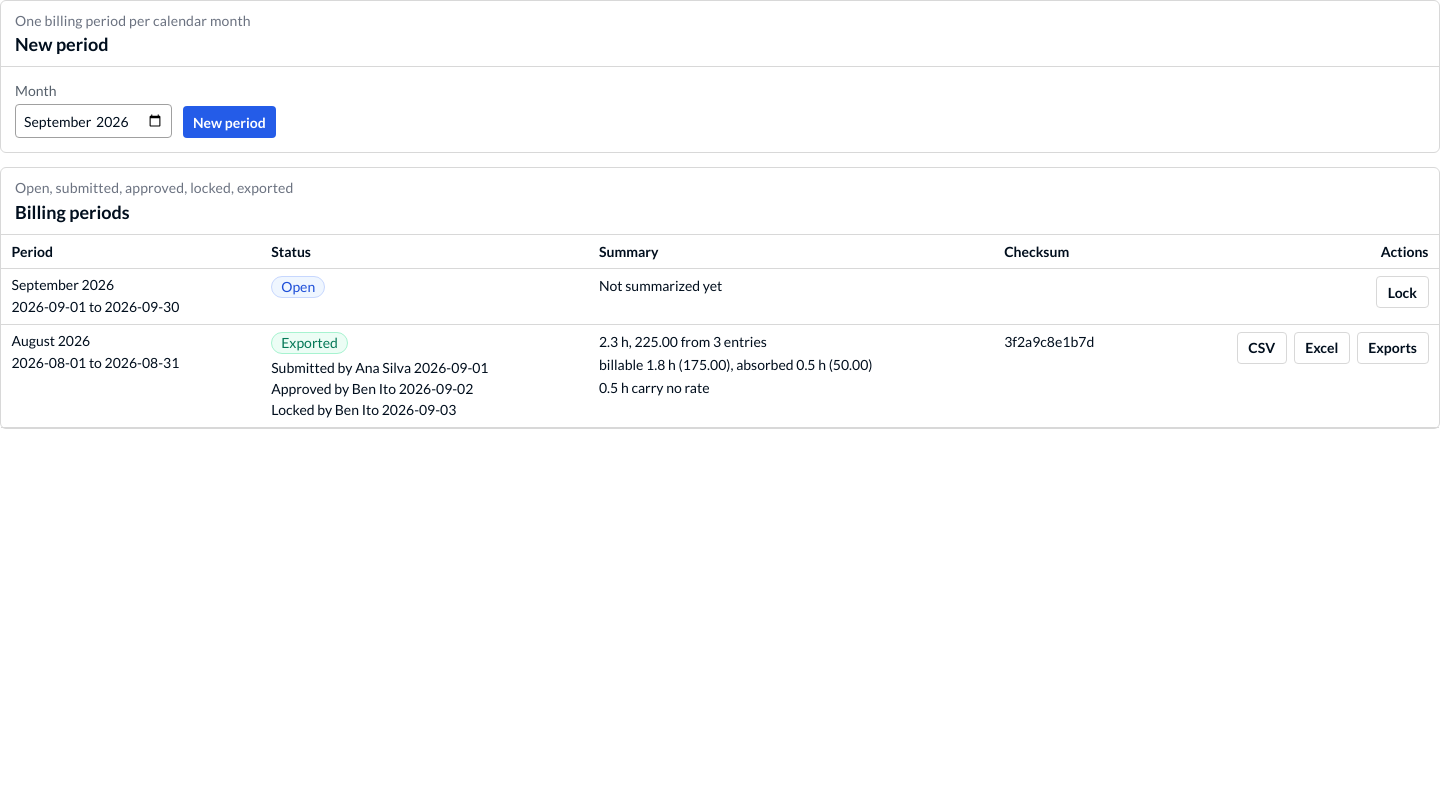
it: BillingPeriodsTab › words period_not_locked from the download and offers no export on an open period
What coordinates should you click on to do the following:
click the button "Excel"
I would click on:
 (1322, 348)
Its box is [1294,332,1350,364].
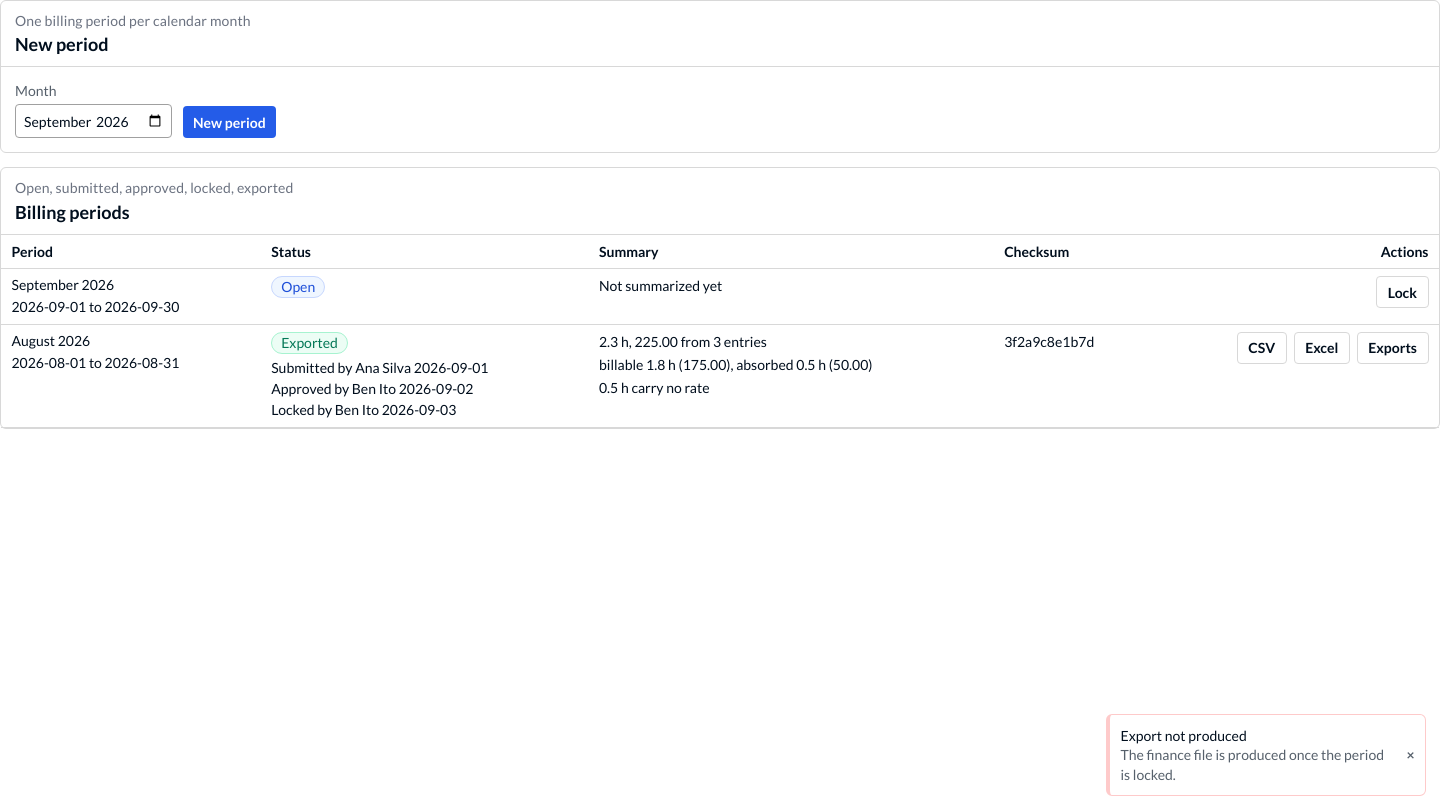
Now the text "Export not produced" is shown, box [1120,727,1247,744]
Now the text "The finance file is produced once the period is locked." is shown, box [1120,745,1396,784]
